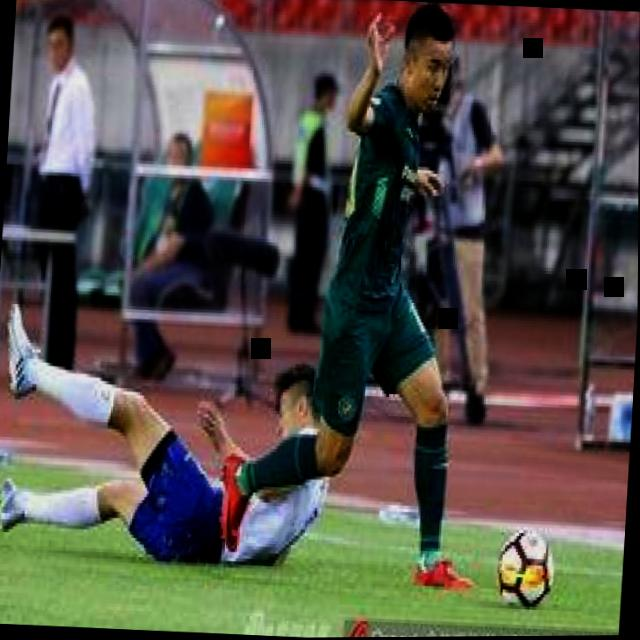Fall-Detected: (0, 272, 349, 574)
